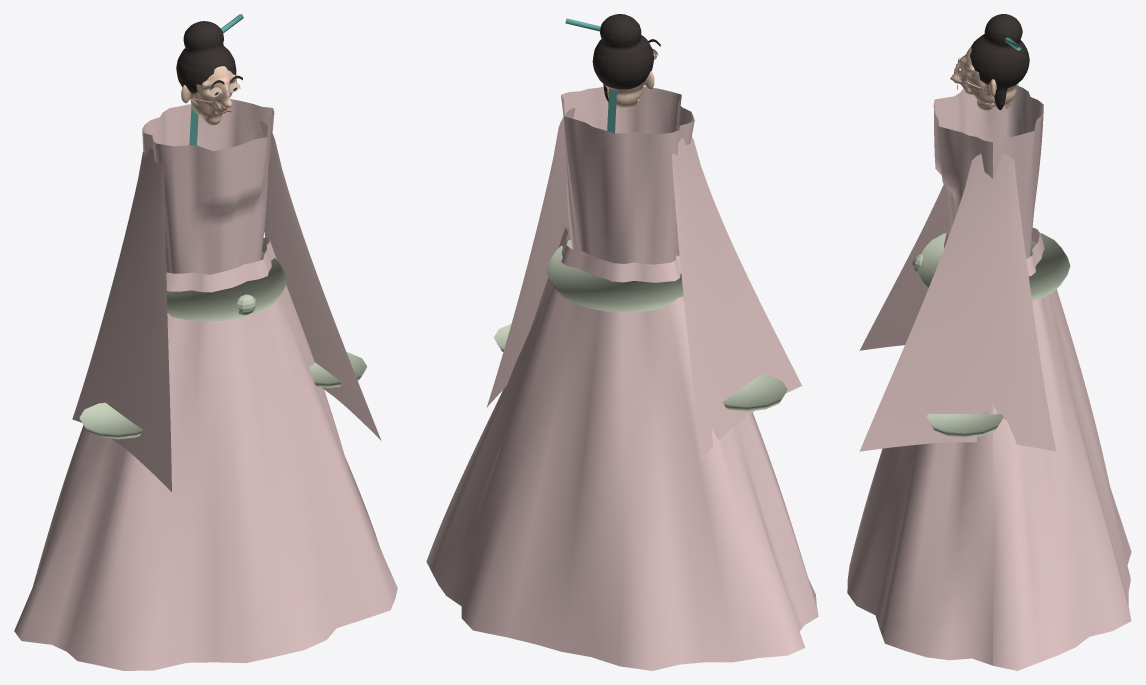
The model's file is hanfu_f.glb.
The picture shows the model from 3 angles, left to right: view 1: azimuth 30°, elevation 25°; view 2: azimuth 150°, elevation 25°; view 3: azimuth 270°, elevation 25°; orthographic projection. The views are drawn at different scales.
Parts seen in each view (by area): view 1: skirtMesh.001, chestMesh.001, sleevesleevePivotL.001, sleevesleevePivotR.001, Sash.001, HairCap, Head, Cuff.002, Cuff.003; view 2: skirtMesh.001, chestMesh.001, sleevesleevePivotL.001, sleevesleevePivotR.001, Sash.001, HairCap, Cuff.002, Head; view 3: skirtMesh.001, sleevesleevePivotR.001, chestMesh.001, sleevesleevePivotL.001, HairCap, Sash.001, Cuff.003, Head.
Boxes of the visible parts, left/top/right/bottom form: skirtMesh.001: left=14, top=237, right=397, bottom=670; chestMesh.001: left=142, top=99, right=274, bottom=274; sleevesleevePivotL.001: left=72, top=148, right=171, bottom=491; sleevesleevePivotR.001: left=260, top=121, right=381, bottom=440; Sash.001: left=166, top=251, right=287, bottom=321; HairCap: left=176, top=21, right=236, bottom=93; Head: left=181, top=66, right=236, bottom=125; Cuff.002: left=79, top=402, right=142, bottom=439; Cuff.003: left=309, top=352, right=367, bottom=387; skirtMesh.001: left=426, top=226, right=818, bottom=670; chestMesh.001: left=561, top=86, right=694, bottom=264; sleevesleevePivotL.001: left=672, top=137, right=801, bottom=459; sleevesleevePivotR.001: left=486, top=108, right=575, bottom=407; Sash.001: left=546, top=240, right=683, bottom=312; HairCap: left=592, top=14, right=653, bottom=102; Cuff.002: left=723, top=374, right=787, bottom=411; Head: left=605, top=53, right=654, bottom=107; skirtMesh.001: left=847, top=227, right=1131, bottom=670; sleevesleevePivotR.001: left=859, top=153, right=1055, bottom=451; chestMesh.001: left=933, top=85, right=1043, bottom=258; sleevesleevePivotL.001: left=859, top=102, right=1012, bottom=350; HairCap: left=970, top=14, right=1029, bottom=109; Sash.001: left=917, top=233, right=1070, bottom=301; Cuff.003: left=926, top=413, right=1003, bottom=437; Head: left=950, top=46, right=1017, bottom=110.
Size of what is drawn, in the model's own units: 1.18 by 1.79 by 0.8089.
